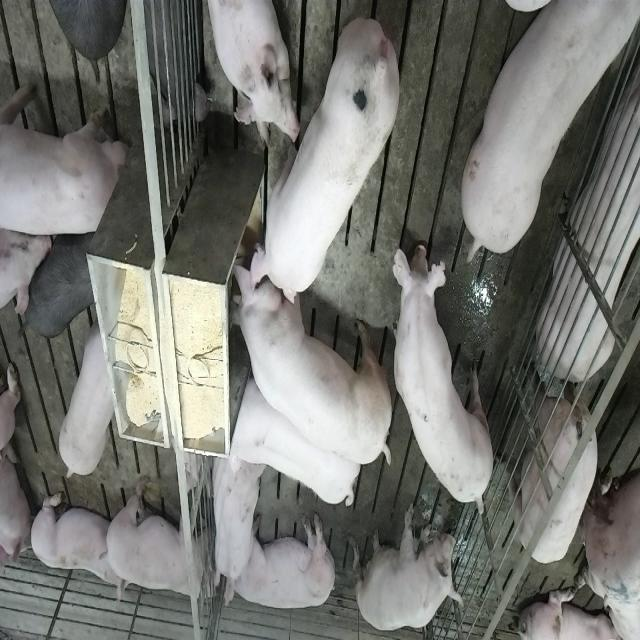Feeding: (246, 15, 402, 307), (223, 246, 389, 467)
Lateral_lying: (222, 512, 338, 612)
Sitting: (355, 502, 463, 632)
Standing: (459, 0, 635, 257), (394, 227, 496, 511), (508, 360, 606, 565), (2, 80, 128, 238), (230, 378, 361, 512), (104, 472, 216, 612), (54, 322, 116, 483), (20, 228, 96, 340)
Sternal_lying: (540, 34, 640, 380), (203, 0, 295, 146), (29, 488, 119, 604), (208, 446, 264, 590)
